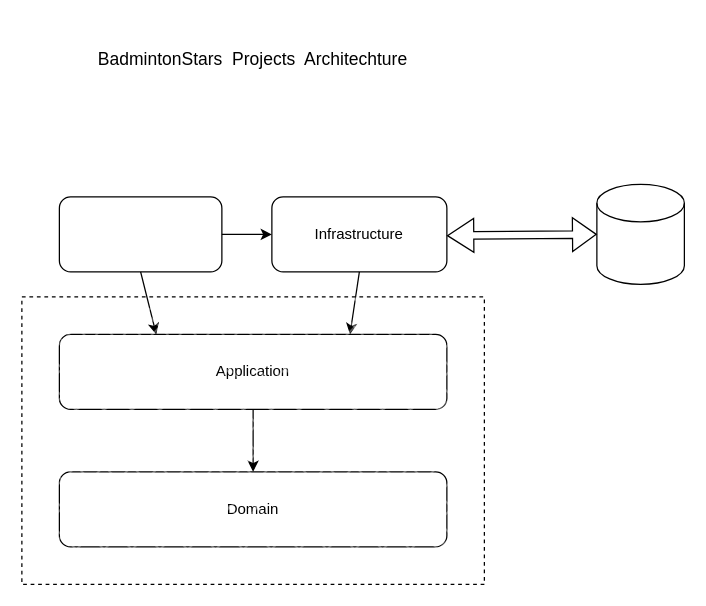
Some shapes in this 706 by 606 pixel diagram are drawn without their labels. Here are the shapes that lost their labels. From the top down, the box of each, then its label:
(58, 196, 222, 272): API
(596, 183, 684, 284): Database
